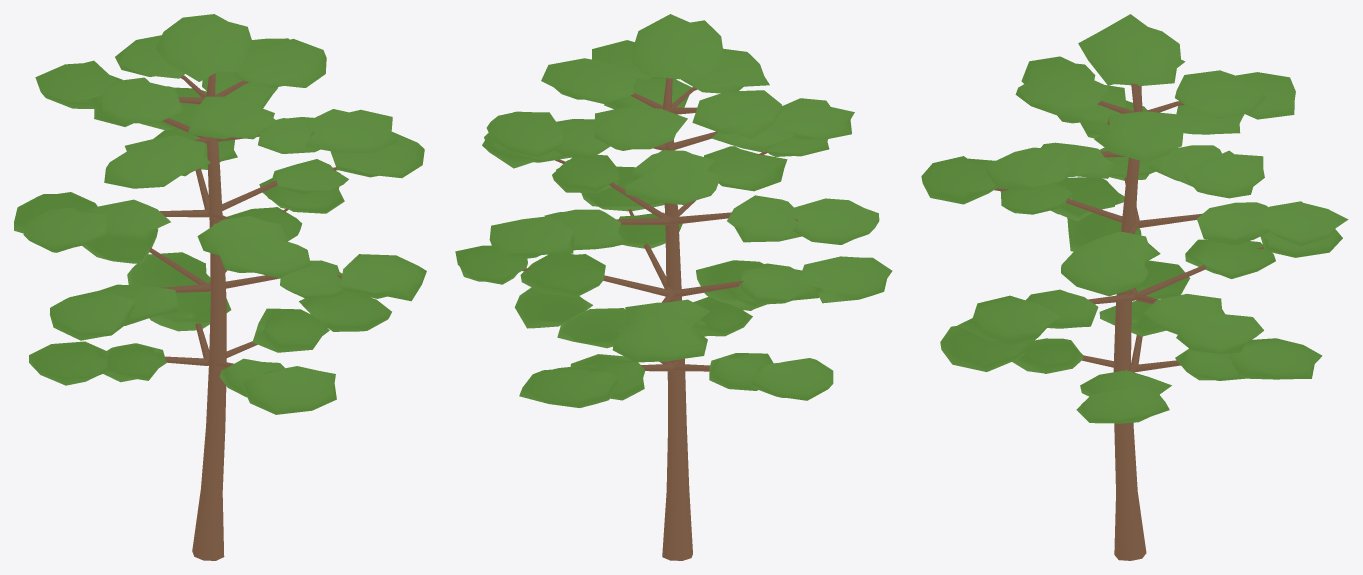
Rendered from Blender_Sassafras_1.glb.
3 views of the same model, side by side, from view 1: azimuth 30°, elevation 25°; view 2: azimuth 150°, elevation 25°; view 3: azimuth 270°, elevation 25° (orthographic).
Parts seen in each view (by area): view 1: Blender_Sassafras_1; view 2: Blender_Sassafras_1; view 3: Blender_Sassafras_1.
Boxes of the visible parts, x1,y1,x2,y2 form: Blender_Sassafras_1: (14,14,426,560); Blender_Sassafras_1: (455,14,892,560); Blender_Sassafras_1: (921,14,1348,560).
Bounding box in the file's own units: 8.68 × 11.2 × 8.21.
